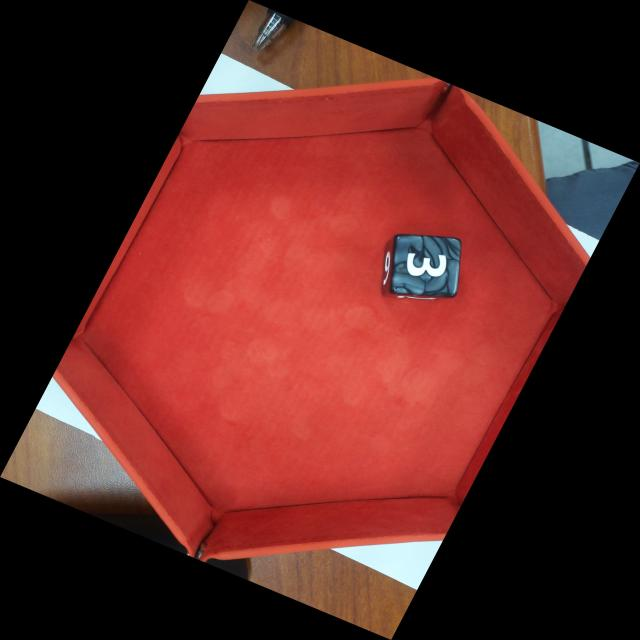dice: (395, 235, 457, 293)
